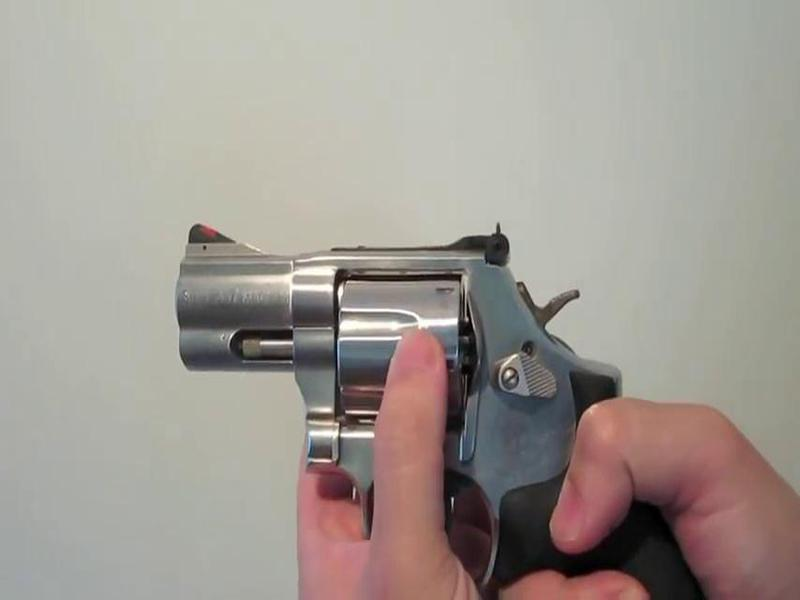Revolver: (155, 178, 666, 571)
